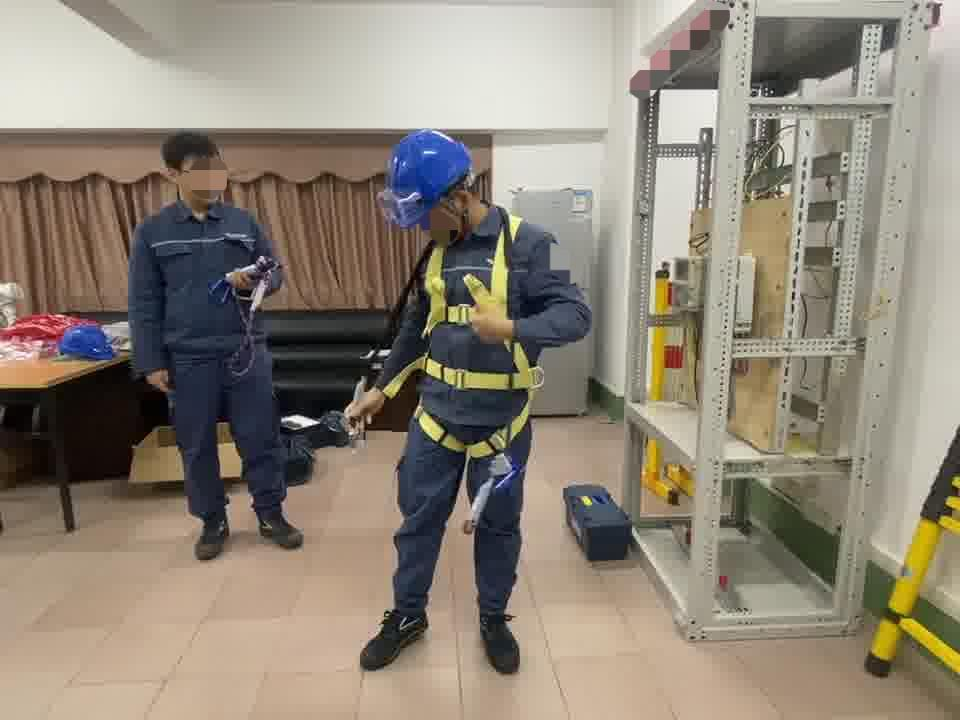halt: (386, 132, 490, 247)
inear: (441, 185, 478, 229)
noear: (163, 162, 199, 199)
unhalt: (164, 132, 229, 209)
